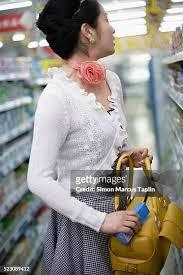shoplifting: (28, 158, 183, 275)
